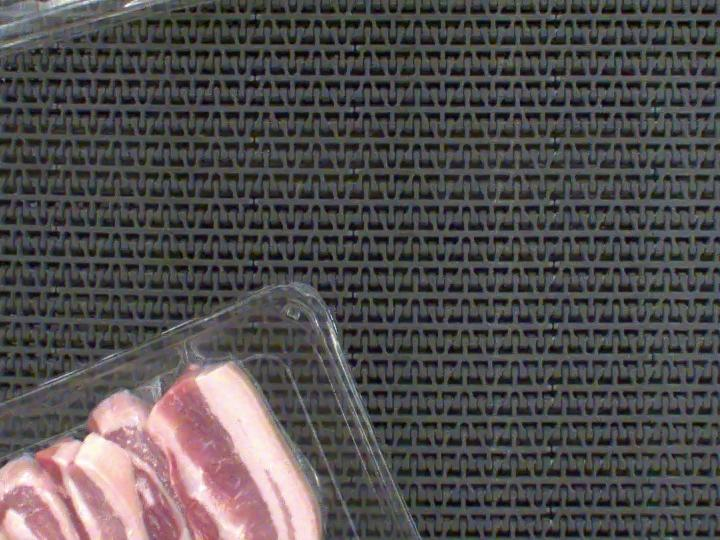packaging-error: (161, 321, 235, 378), (129, 364, 186, 417)
